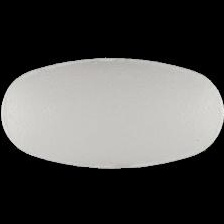63187-640: (0, 0, 224, 224)
